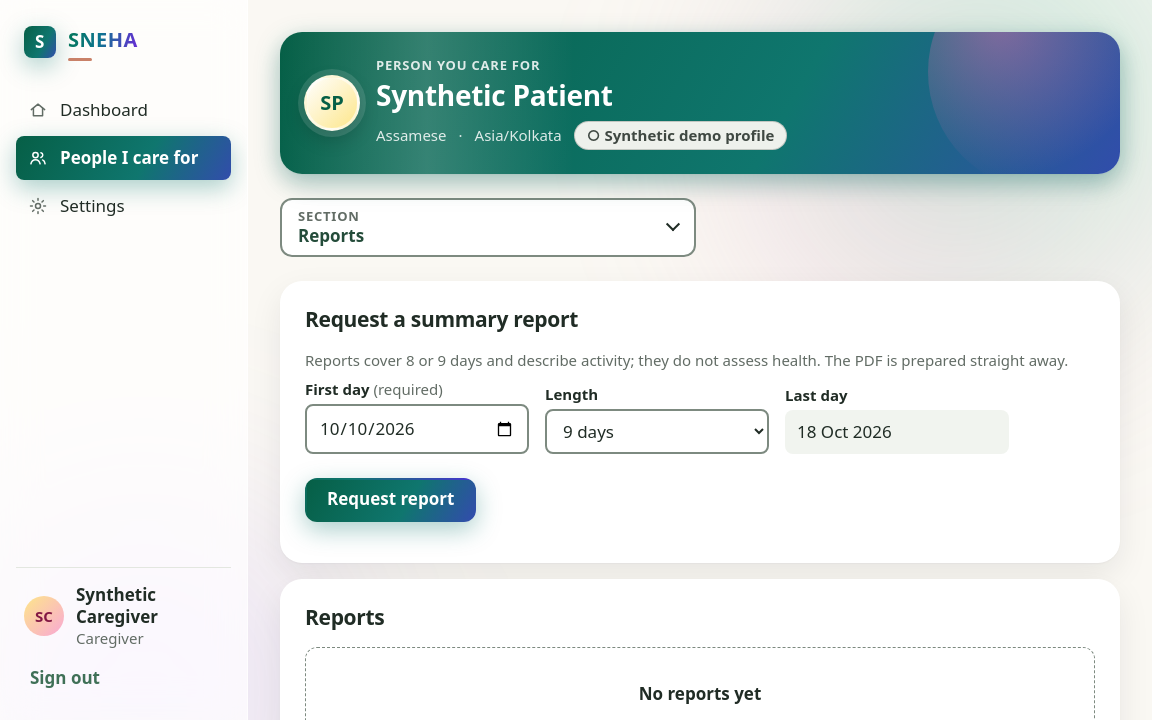
Test: reports › a failed report offers "Prepare again", which retries and then allows download
This screenshot has width=1152, height=720.
Click the button "Request report".
click(391, 500)  # box [305,478,476,522]
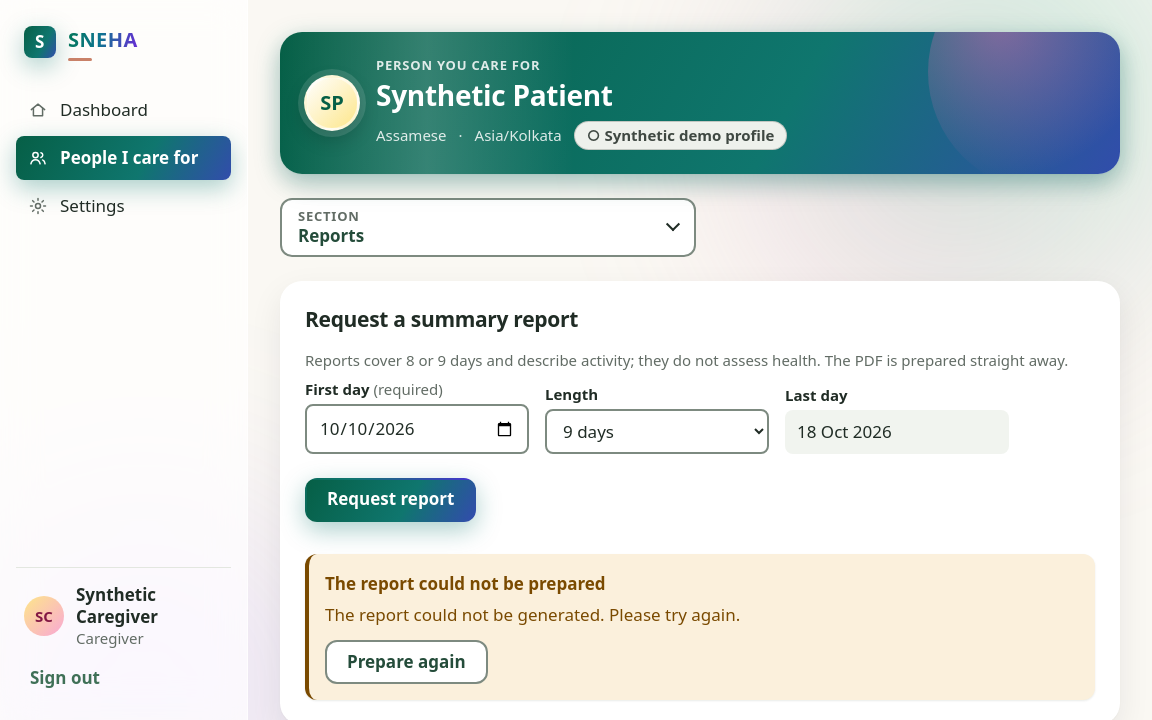
Check: the text "The report could not be prepared" is shown, box [325,572,606,595]
Click the button "Prepare again".
click(406, 662)  # box [325,640,488,684]
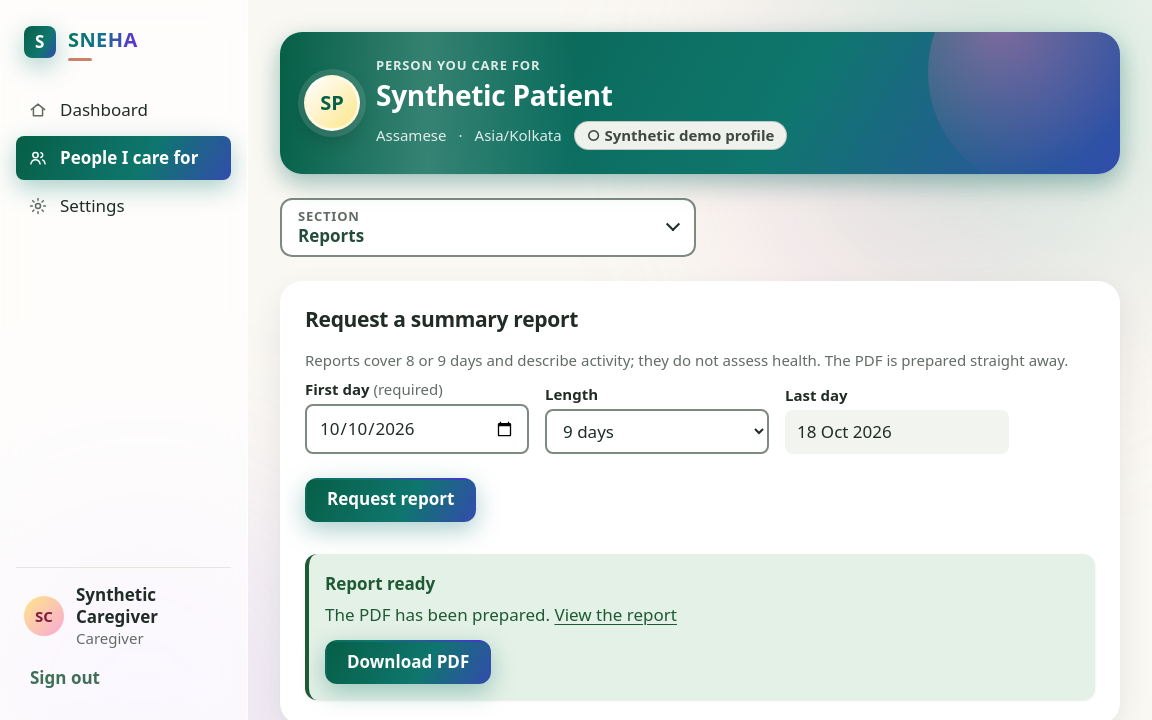
Check: the text "Report ready" is shown, box [325,572,435,595]
